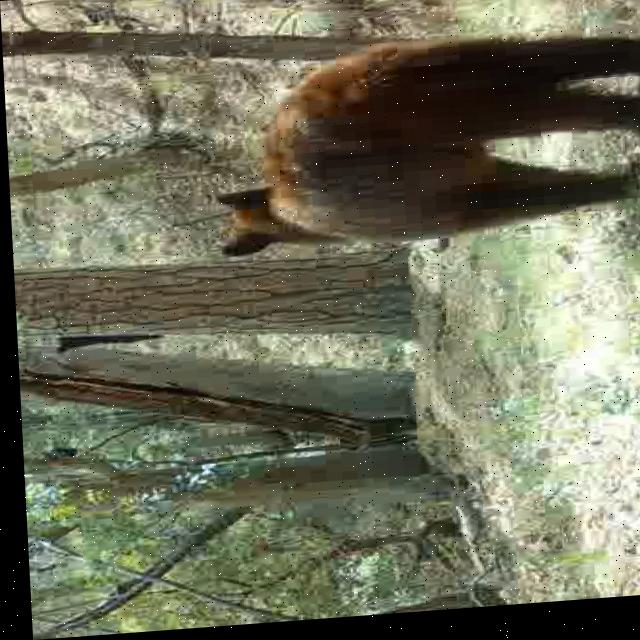bear face: (207, 36, 640, 259), (48, 331, 134, 352)
